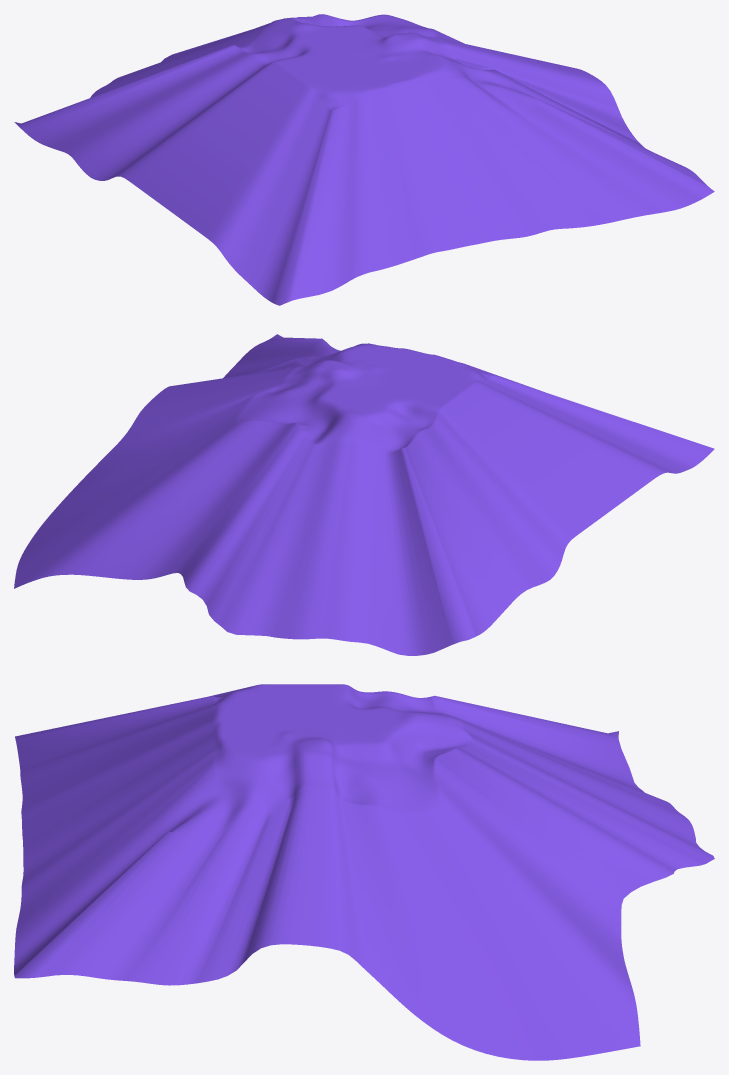
Rendered from P1_H1_Ground.fbx.
3 renders of one model, top to bottom at view 1: azimuth 30°, elevation 25°; view 2: azimuth 150°, elevation 25°; view 3: azimuth 270°, elevation 25°, orthographic. The views are drawn at different scales.
Visible parts, largest first — view 1: Ground.010, Ground.006, Ground.007, Ground.005, Ground.008; view 2: Ground.010, Ground.006, Ground.007, Ground.005, Ground.008; view 3: Ground.010, Ground.007, Ground.006, Ground.005, Ground.008.
Boxes of the visible parts, x1=… form: Ground.010: x1=14, y1=15, x2=714, y2=305; Ground.006: x1=273, y1=23, x2=443, y2=93; Ground.007: x1=234, y1=14, x2=539, y2=118; Ground.005: x1=252, y1=18, x2=461, y2=106; Ground.008: x1=370, y1=32, x2=465, y2=60; Ground.010: x1=14, y1=334, x2=714, y2=655; Ground.006: x1=320, y1=344, x2=478, y2=423; Ground.007: x1=234, y1=339, x2=494, y2=453; Ground.005: x1=307, y1=343, x2=486, y2=440; Ground.008: x1=277, y1=360, x2=367, y2=385; Ground.010: x1=14, y1=686, x2=714, y2=1060; Ground.007: x1=158, y1=691, x2=473, y2=837; Ground.006: x1=216, y1=684, x2=429, y2=759; Ground.005: x1=210, y1=684, x2=463, y2=772; Ground.008: x1=290, y1=737, x2=341, y2=810.
Size of the model in its own units: 41048 by 13537 by 43873.
